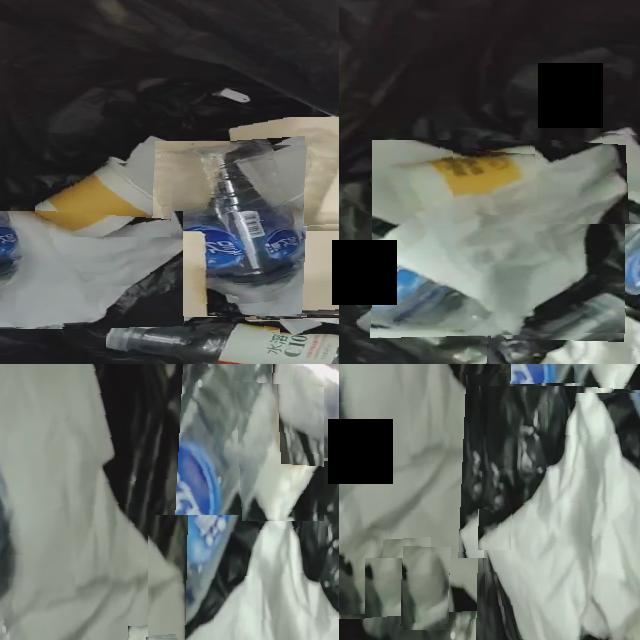bottle: (103, 364, 293, 640), (438, 364, 574, 555), (156, 144, 302, 316), (365, 558, 600, 640), (499, 186, 640, 301), (357, 298, 504, 364), (106, 323, 339, 364), (278, 364, 339, 442)
carton: (230, 117, 339, 228), (245, 231, 339, 314)
dixie_cup: (35, 162, 172, 237), (453, 151, 605, 215)
paper: (375, 140, 625, 336), (0, 364, 174, 640), (339, 364, 509, 609), (483, 386, 640, 640), (0, 211, 183, 329), (188, 515, 339, 640), (239, 384, 324, 521), (536, 133, 640, 224), (403, 547, 449, 630), (478, 511, 512, 550), (281, 318, 339, 335)
